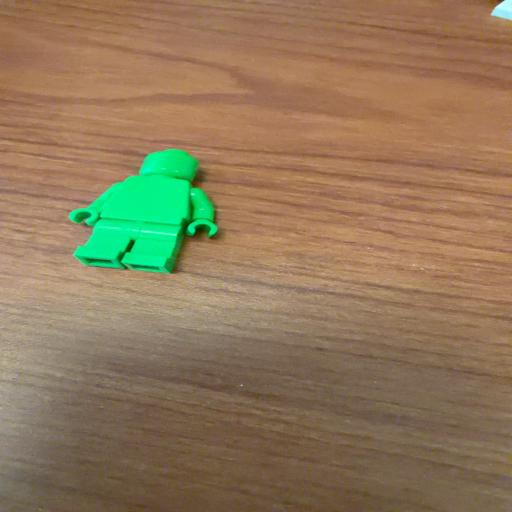UnoQ-minifig-detector: (69, 149, 217, 273)
